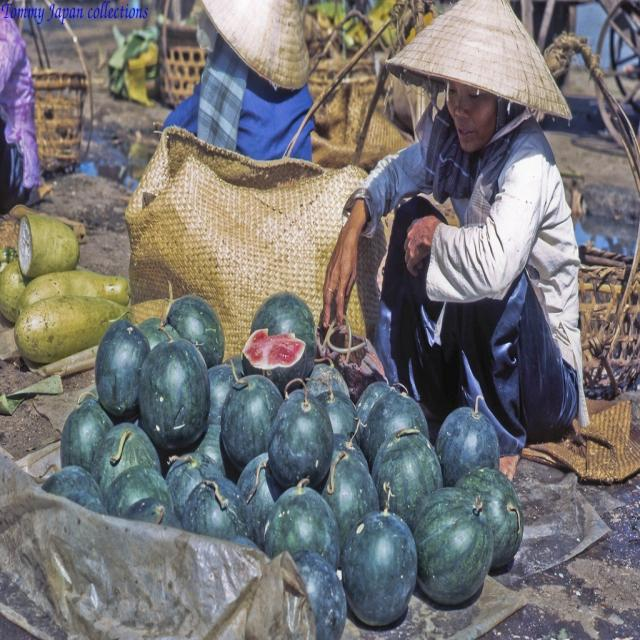Hat: (385, 0, 571, 121), (200, 0, 314, 93)
